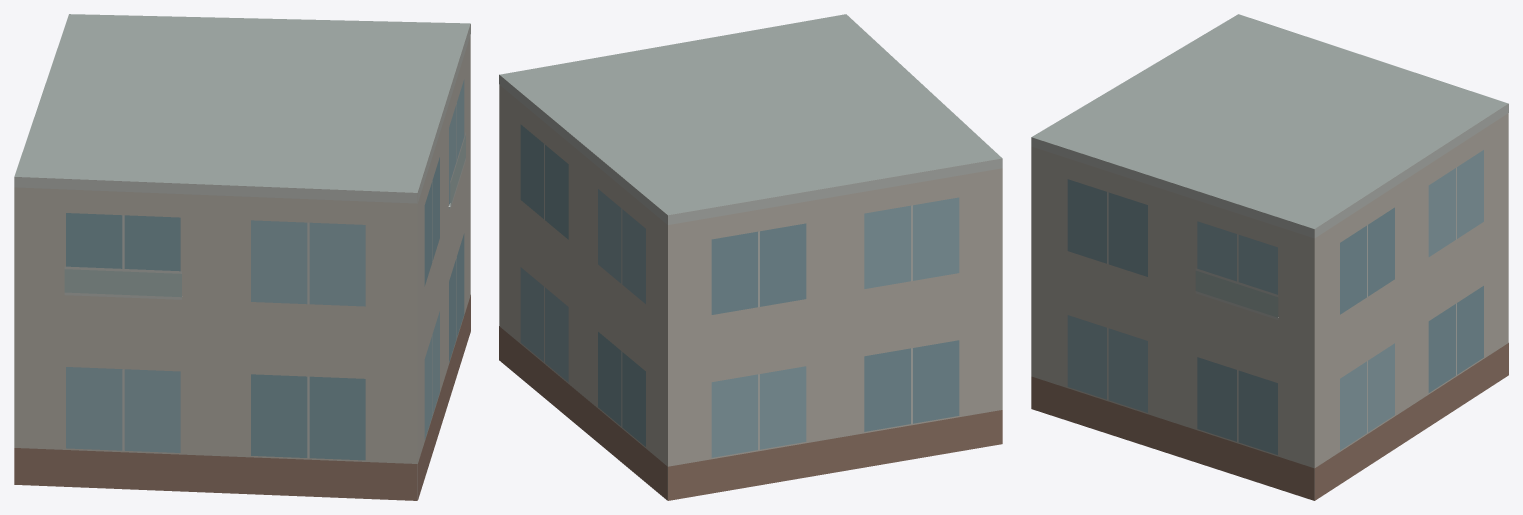
The model's file is survey-upis-32609090.glb.
3 views of the same model, side by side, from view 1: azimuth 30°, elevation 25°; view 2: azimuth 150°, elevation 25°; view 3: azimuth 270°, elevation 25° (orthographic). The views are drawn at different scales.
Visible parts, largest first — view 1: survey-upis-32609090.tmp; view 2: survey-upis-32609090.tmp; view 3: survey-upis-32609090.tmp.
Part boxes in pixels (x1,y1,x2,y2): survey-upis-32609090.tmp: (14,14,470,500); survey-upis-32609090.tmp: (499,14,1002,500); survey-upis-32609090.tmp: (1031,14,1508,500).
Bounding box in the file's own units: 12.06 × 7.1 × 11.31.
